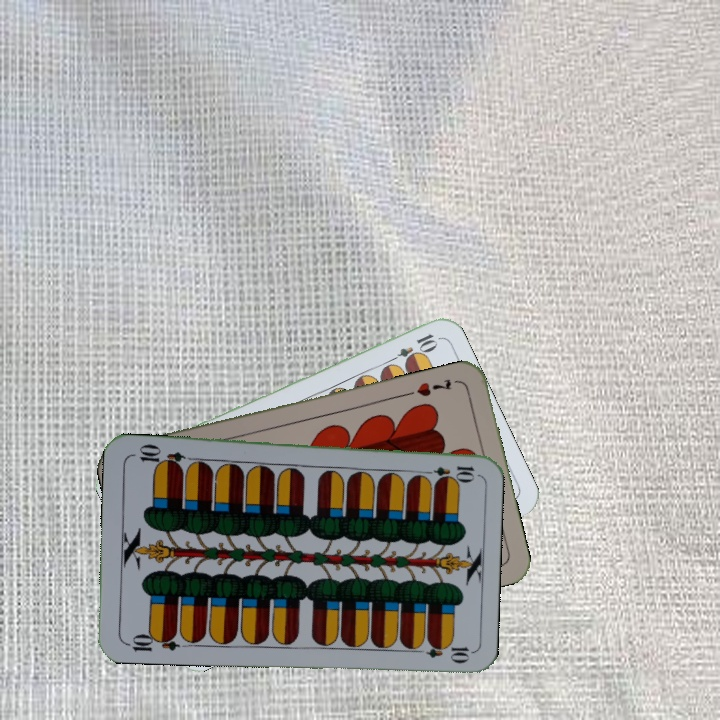E10: (383, 329, 440, 368), (122, 628, 181, 654), (418, 462, 477, 480)
H7: (412, 375, 455, 400)
